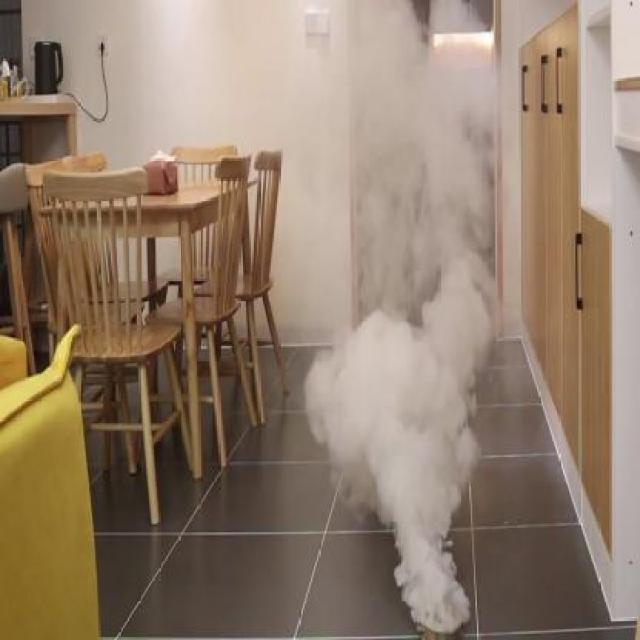smoke: (294, 1, 511, 636)
